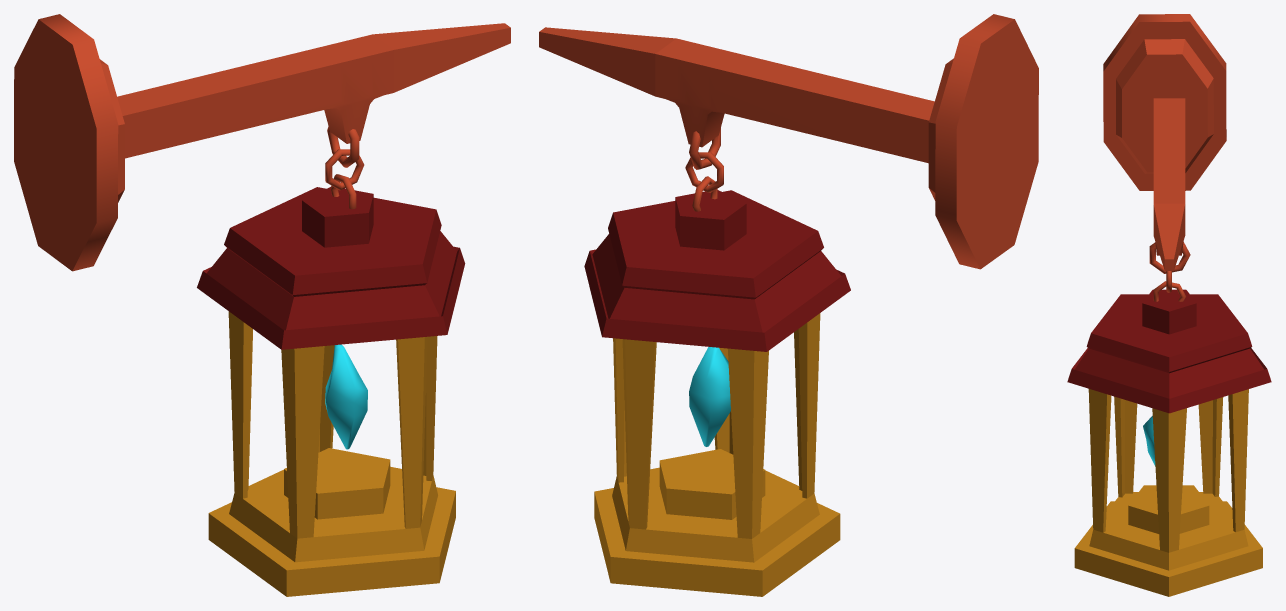
The model's file is Lantern.FBX.
3 renders of one model, left to right at view 1: azimuth 30°, elevation 25°; view 2: azimuth 150°, elevation 25°; view 3: azimuth 270°, elevation 25°, orthographic. The views are drawn at different scales.
Visible parts, largest first — view 1: Box014; view 2: Box014; view 3: Box014.
Part boxes in pixels (box(x1,y1,x2,y2)): Box014: box(14, 14, 510, 596); Box014: box(539, 14, 1038, 596); Box014: box(1067, 14, 1271, 596).
Bounding box in the file's own units: 117 × 144 × 61.07.
